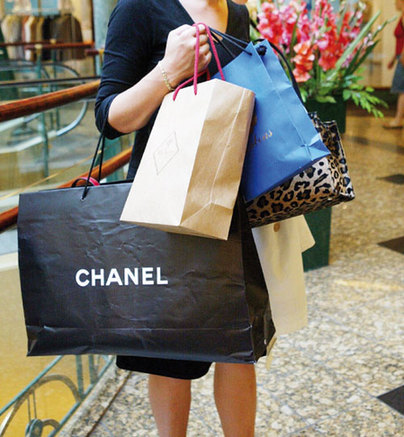bag: (12, 130, 280, 369), (118, 31, 254, 249), (209, 29, 329, 197)
